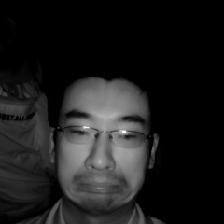sad: (41, 67, 163, 218)
